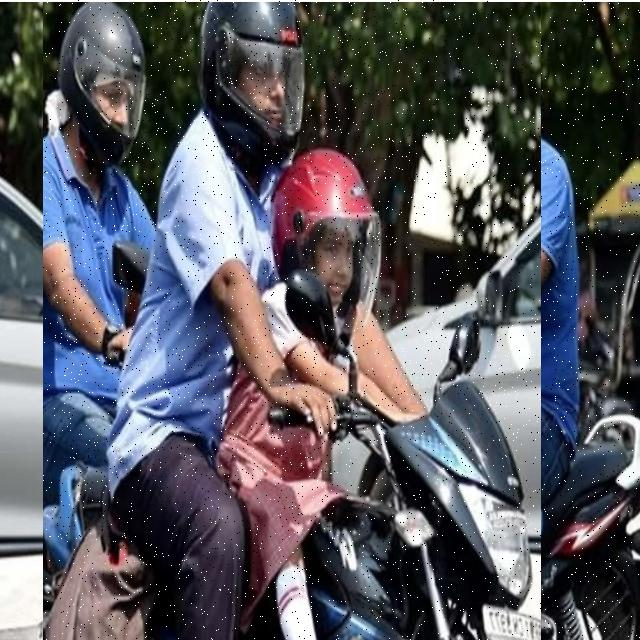With Helmet: (44, 0, 542, 640), (417, 0, 640, 640)
